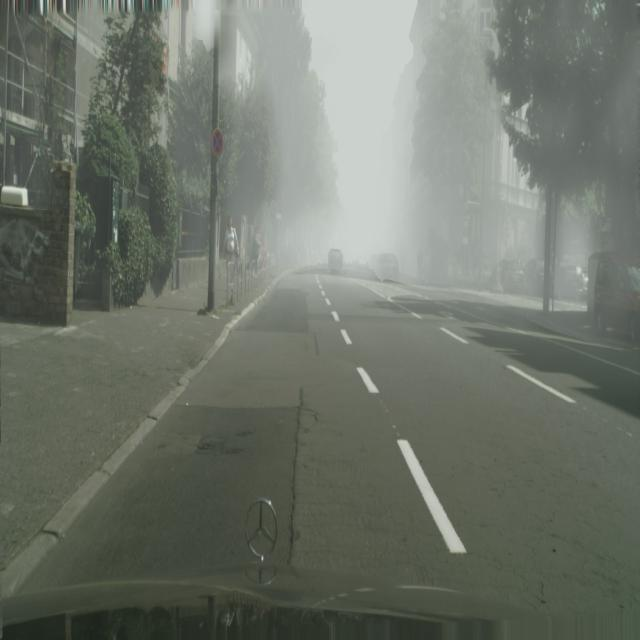bus: (221, 214, 239, 302), (250, 225, 261, 278)
person: (592, 256, 640, 343), (499, 258, 525, 293), (563, 265, 588, 294), (377, 252, 399, 281), (328, 248, 343, 273)
truck: (225, 250, 237, 307)
